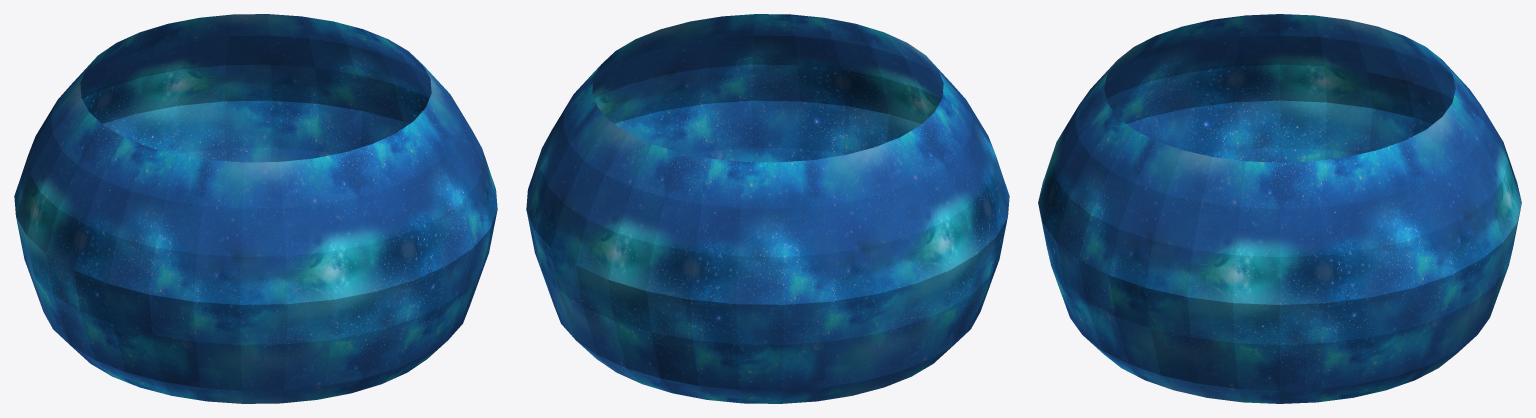
Rendered from gonghui_sky_01 #48650163.fbx.
3 renders of one model, left to right at view 1: azimuth 30°, elevation 25°; view 2: azimuth 150°, elevation 25°; view 3: azimuth 270°, elevation 25°, orthographic.
Visible parts, largest first — view 1: gonghui_sky_01; view 2: gonghui_sky_01; view 3: gonghui_sky_01.
Part boxes in pixels (bbox=[...]): gonghui_sky_01: bbox=[14, 14, 497, 403]; gonghui_sky_01: bbox=[526, 14, 1009, 403]; gonghui_sky_01: bbox=[1038, 14, 1521, 403].
Bounding box in the file's own units: 294 × 174 × 294.
